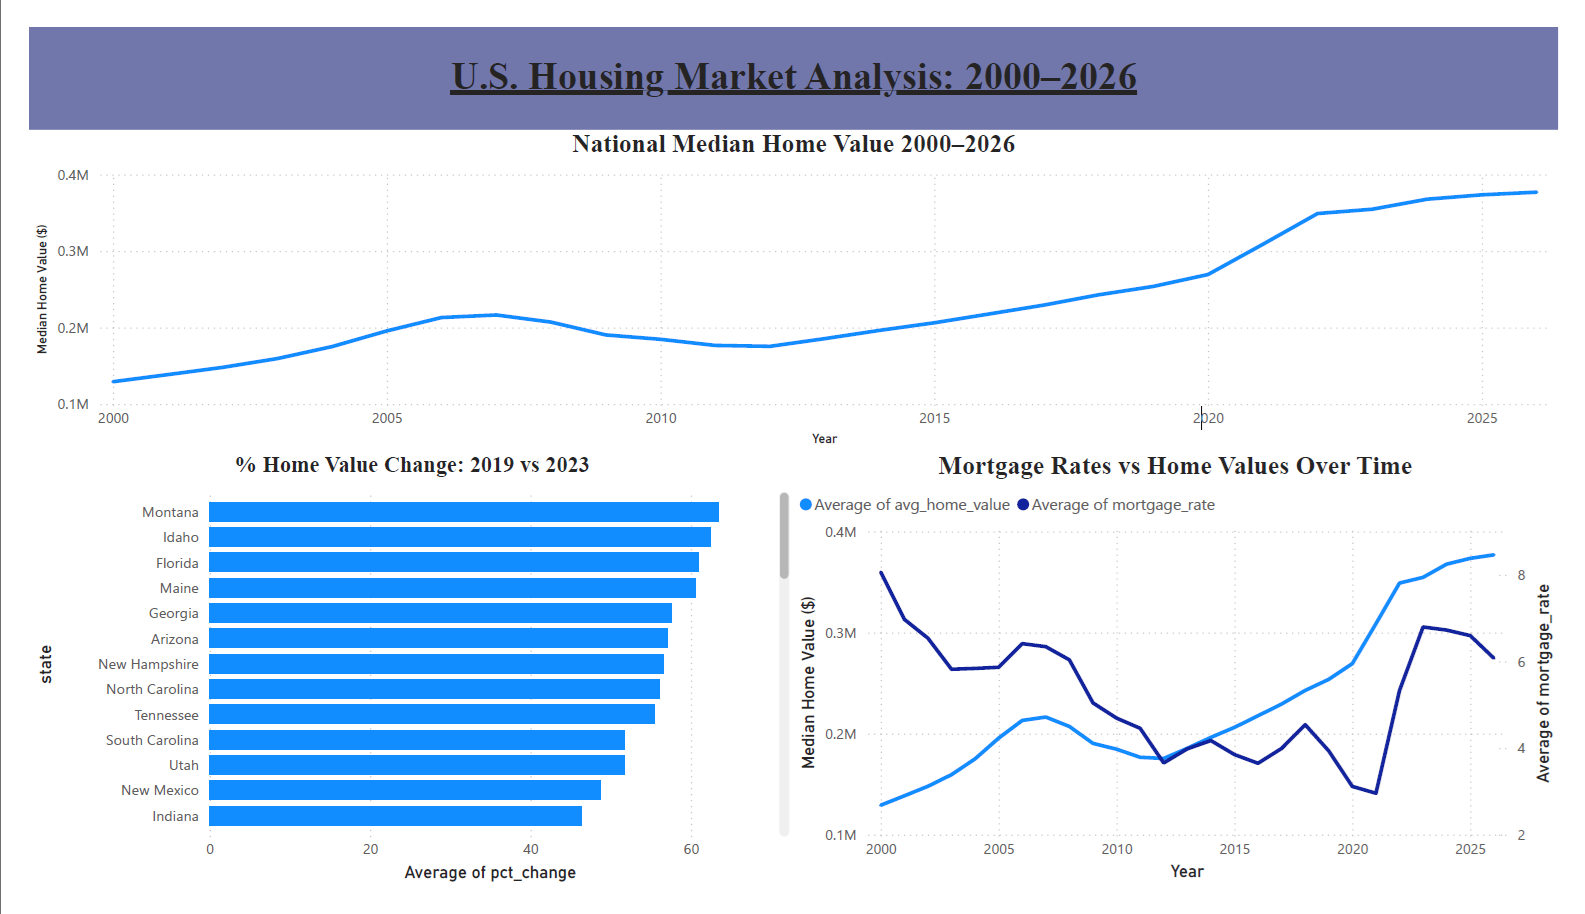

Layout of this report page (visuals, bound fields, positions):
{"tool":"powerbi","page":{"name":"Page 1","canvas":[1280,720],"ordinal":0},"visuals":[{"type":"lineChart","title":"National Median Home Value 2000–2026","fields":{"Category":["output_national_trend.date.Variation.Date Hierarchy.Year","output_national_trend.date.Variation.Date Hierarchy.Quarter","output_national_trend.date.Variation.Date Hierarchy.Month","output_national_trend.date.Variation.Date Hierarchy.Day"],"Y":["Avg(output_national_trend.median_home_value)"]},"box":[0,84.6,1280,269.9],"z":0},{"type":"clusteredBarChart","title":"% Home Value Change: 2019 vs 2023","fields":{"Category":["output_covid_comparison.state"],"Y":["Avg(output_covid_comparison.pct_change)"]},"box":[0,354.5,640.6,365.7],"z":1},{"type":"lineChart","title":"Mortgage Rates vs Home Values Over Time","fields":{"Category":["output_rates_vs_values.date.Variation.Date Hierarchy.Year","output_rates_vs_values.date.Variation.Date Hierarchy.Quarter","output_rates_vs_values.date.Variation.Date Hierarchy.Month","output_rates_vs_values.date.Variation.Date Hierarchy.Day"],"Y":["Avg(output_rates_vs_values.avg_home_value)"],"Y2":["Avg(output_rates_vs_values.mortgage_rate)"]},"box":[639.4,354.5,640.6,365.7],"z":2},{"type":"textbox","box":[0,0,1280,84.6],"z":3}]}

Visuals, with their boxes in screenshot pixels (x1, y1, x2, y2), scaled from the page's 1280x720 canvas onto the 1585x914 screenshot:
"National Median Home Value 2000–2026" lineChart: 0/107/1584/450
"% Home Value Change: 2019 vs 2023" clusteredBarChart: 0/450/793/913
"Mortgage Rates vs Home Values Over Time" lineChart: 792/450/1584/913
textbox: 0/0/1584/107
